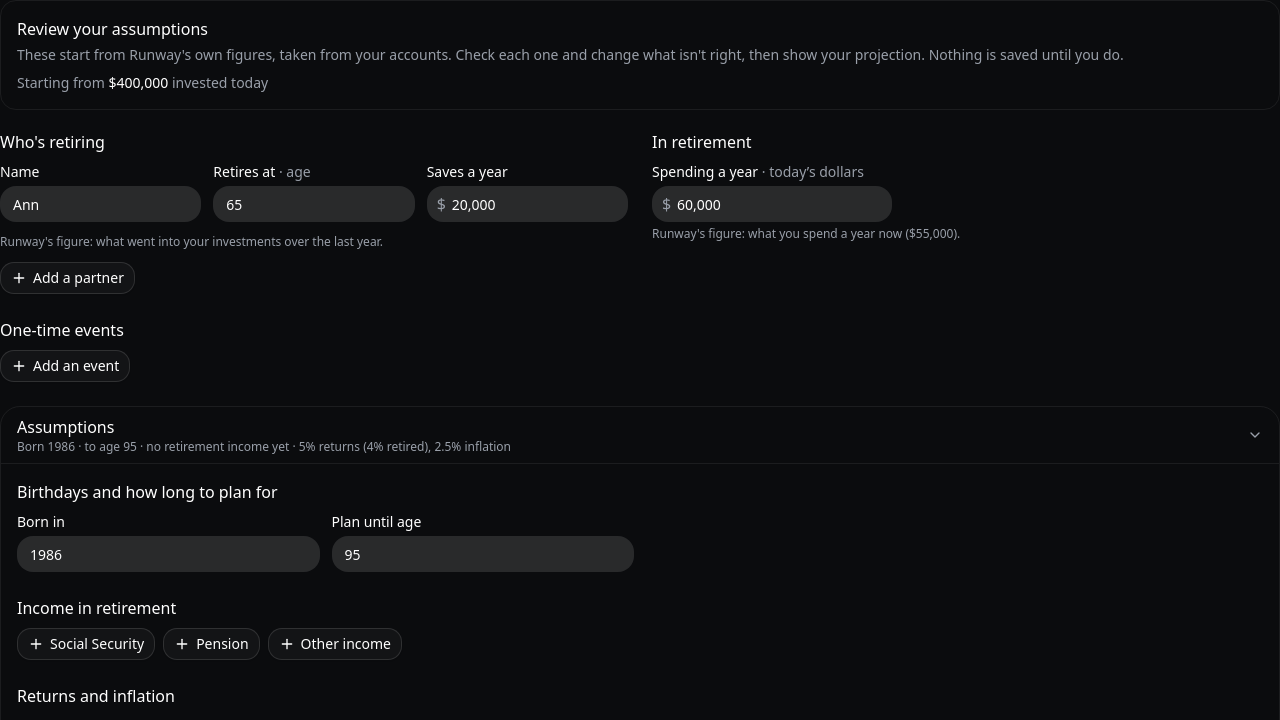
Test case: reviewing a default plan › saves once on Show my projection, then shows the results for the saved plan
This screenshot has width=1280, height=720.
Step 1. Type "x" into the field labelled "Name" → (101, 204), box [0, 186, 201, 222]
(page scrolled)
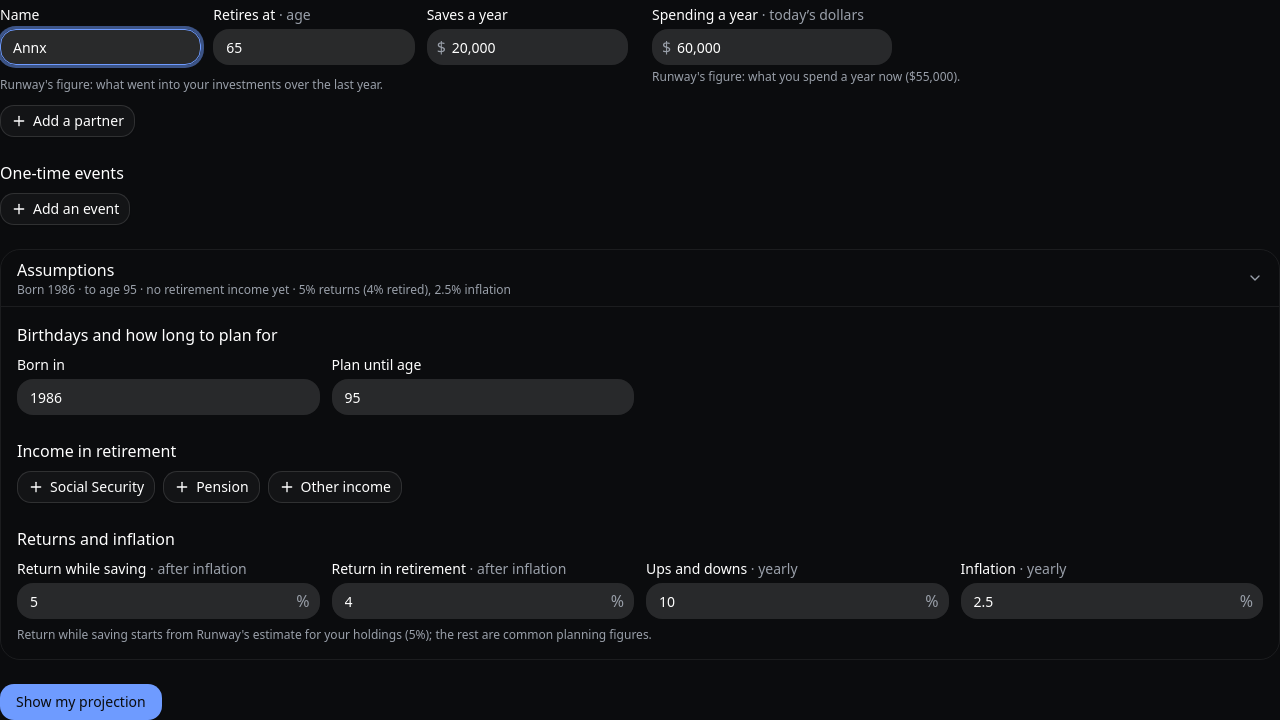
Step 2. Click the button "Show my projection" → (81, 702), box [0, 684, 162, 719]
(page scrolled)
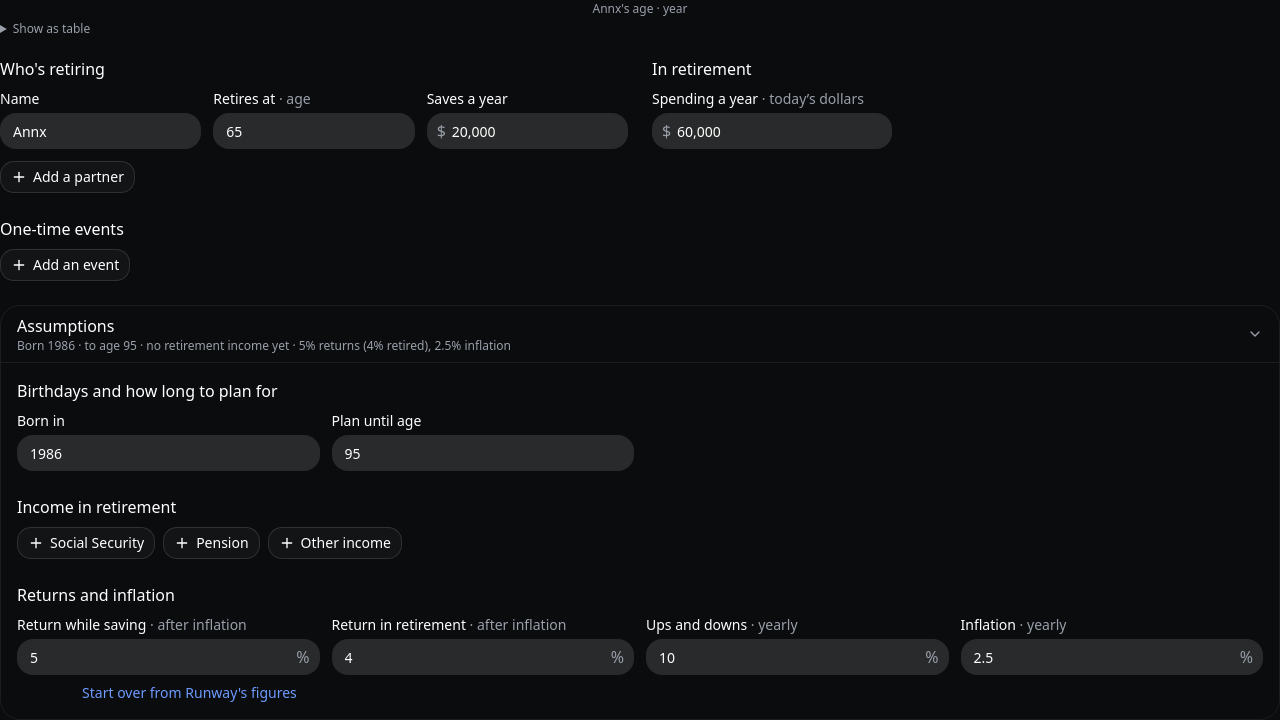
Now the button "Start over from Runway's figures" is shown, box [17, 683, 362, 703]
